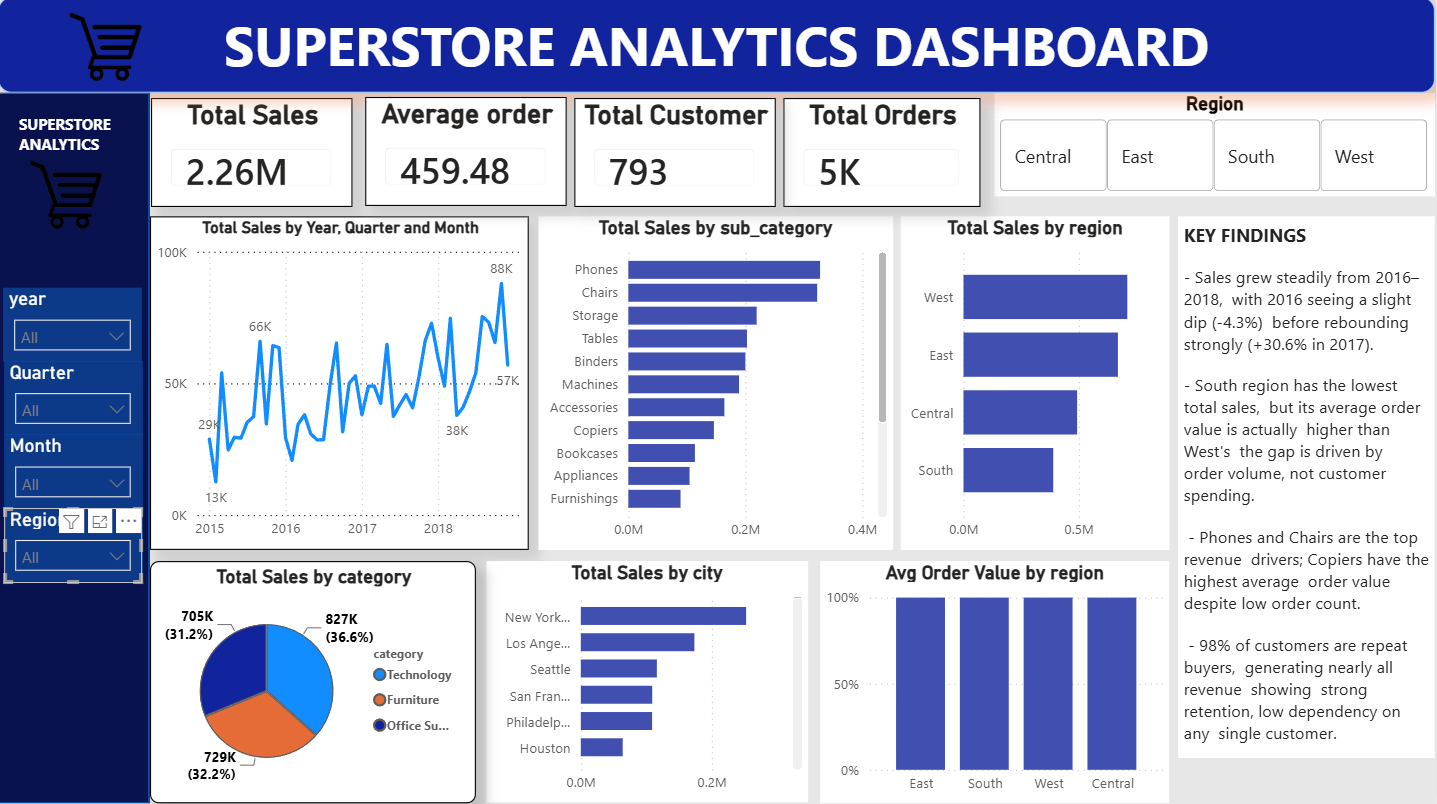

This screenshot's page, from the dashboard's own definition file:
{"tool":"powerbi","page":{"name":"Page 1","canvas":[1280,720],"ordinal":0},"visuals":[{"type":"cardVisual","title":"Total Sales","fields":{"Data":["DateTable.Total Sales"]},"box":[135.9,90.2,179.5,97.3],"z":0},{"type":"lineChart","fields":{"Y":["DateTable.Total Sales"],"Category":["DateTable.Date.Variation.Date Hierarchy.Year","DateTable.Date.Variation.Date Hierarchy.Quarter","DateTable.Date.Variation.Date Hierarchy.Month","DateTable.Date.Variation.Date Hierarchy.Day"]},"box":[135.7,195.7,337.6,297.1],"z":1000},{"type":"clusteredBarChart","fields":{"Y":["DateTable.Total Sales"],"Category":["public superstore_clean.region"]},"box":[804,195.7,239.3,297.1],"z":2000},{"type":"clusteredBarChart","fields":{"Y":["DateTable.Total Sales"],"Category":["public superstore_clean.city"]},"box":[434.8,501.9,285.9,214.9],"z":3000},{"type":"clusteredBarChart","fields":{"Category":["public superstore_clean.sub_category"],"Y":["DateTable.Total Sales"]},"box":[481.6,195.7,315.3,297.1],"z":4000},{"type":"advancedSlicerVisual","title":"Region","fields":{"Values":["public superstore_clean.region"]},"box":[887.3,85.4,392.3,92.6],"z":5000},{"type":"hundredPercentStackedColumnChart","fields":{"Category":["public superstore_clean.region"],"Y":["DateTable.Avg Order Value"]},"box":[731.9,501.9,311.3,216],"z":6000},{"type":"textbox","box":[22,0,125,85],"z":7000},{"type":"textbox","box":[0,0,1279.6,85],"z":8000},{"type":"cardVisual","title":"Average order","fields":{"Data":["DateTable.Avg Order Value"]},"box":[326.8,89.3,179.5,97.3],"z":9000},{"type":"cardVisual","title":"Total Orders","fields":{"Data":["DateTable.Total Orders"]},"box":[699.1,90.3,175.4,97.3],"z":10000},{"type":"shape","box":[0,85.2,134.9,632.7],"z":11000},{"type":"pieChart","fields":{"Y":["DateTable.Total Sales"],"Category":["public superstore_clean.category"]},"box":[135.7,501.9,290,216],"z":12000},{"type":"cardVisual","title":"Total Customer","fields":{"Data":["DateTable.Total Customers"]},"box":[513.5,90.3,179.5,97.3],"z":13000},{"type":"slicer","title":"year","fields":{"Values":["DateTable.Year"]},"box":[4.9,258.6,123.7,65.9],"z":14000},{"type":"slicer","title":"Quarter","fields":{"Values":["DateTable.Quarter"]},"box":[5.2,324,123.1,65.7],"z":15000},{"type":"slicer","title":"Month","fields":{"Values":["DateTable.Month"]},"box":[5.2,389.7,123.1,65.7],"z":16000},{"type":"slicer","title":"Region","fields":{"Values":["public superstore_clean.region"]},"box":[5.2,455.4,123.1,65.7],"z":17000},{"type":"textbox","box":[13.6,99,107.2,47.2],"z":18000},{"type":"image","box":[0,0,190.7,89],"z":19000},{"type":"image","box":[0,131.7,120.8,89],"z":20000},{"type":"textbox","box":[1050.7,195.3,228.9,482.2],"z":21000}]}

Visuals, with their boxes in screenshot pixels (x1, y1, x2, y2), scaled from the page's 1280x720 canvas onto the 1437x804 screenshot:
"Total Sales" cardVisual: <region>153, 101, 354, 209</region>
lineChart - DateTable.Total Sales x DateTable.Date.Variation.Date Hierarchy.Year: <region>152, 219, 531, 550</region>
clusteredBarChart - DateTable.Total Sales x public superstore_clean.region: <region>903, 219, 1171, 550</region>
clusteredBarChart - DateTable.Total Sales x public superstore_clean.city: <region>488, 560, 809, 800</region>
clusteredBarChart - public superstore_clean.sub_category x DateTable.Total Sales: <region>541, 219, 895, 550</region>
"Region" advancedSlicerVisual: <region>996, 95, 1436, 199</region>
hundredPercentStackedColumnChart - public superstore_clean.region x DateTable.Avg Order Value: <region>822, 560, 1171, 802</region>
textbox: <region>25, 0, 165, 95</region>
textbox: <region>0, 0, 1436, 95</region>
"Average order" cardVisual: <region>367, 100, 568, 208</region>
"Total Orders" cardVisual: <region>785, 101, 982, 209</region>
shape: <region>0, 95, 151, 802</region>
pieChart - DateTable.Total Sales x public superstore_clean.category: <region>152, 560, 478, 802</region>
"Total Customer" cardVisual: <region>576, 101, 778, 209</region>
"year" slicer: <region>6, 289, 144, 362</region>
"Quarter" slicer: <region>6, 362, 144, 435</region>
"Month" slicer: <region>6, 435, 144, 509</region>
"Region" slicer: <region>6, 509, 144, 582</region>
textbox: <region>15, 111, 136, 163</region>
image: <region>0, 0, 214, 99</region>
image: <region>0, 147, 136, 246</region>
textbox: <region>1180, 218, 1436, 757</region>
